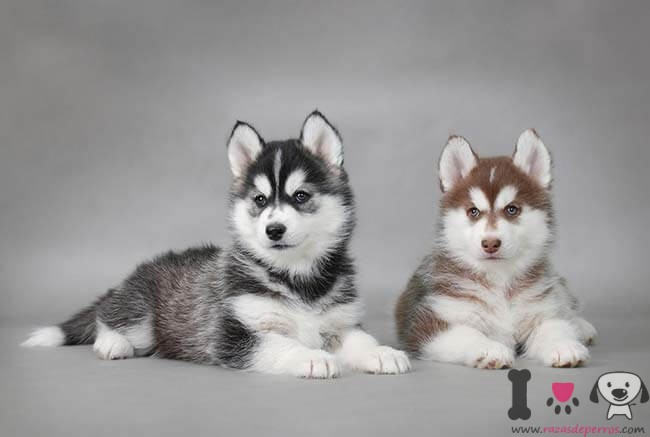husky: (93, 108, 366, 365), (406, 116, 574, 361)
